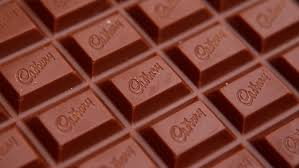Chocolate: (1, 6, 288, 168)
